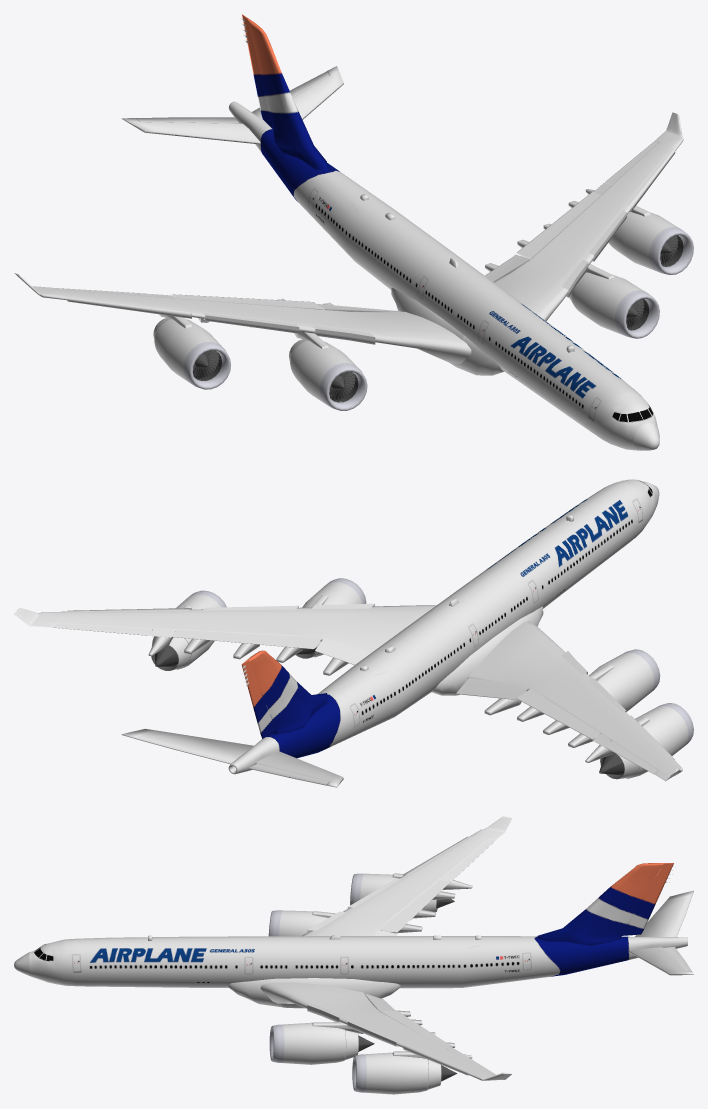
The model's file is Plane Close Wheel.fbx.
The picture shows the model from 3 angles, top to bottom: view 1: azimuth 30°, elevation 25°; view 2: azimuth 150°, elevation 25°; view 3: azimuth 270°, elevation 25°; orthographic projection. The views are drawn at different scales.
Visible parts, largest first — view 1: Plane body, thruster_1.L, thruster_2.L, thruster_1.R, thruster_2.R; view 2: Plane body, thruster_2.R, thruster_1.R, thruster_2.L, thruster_1.L; view 3: Plane body, thruster_1.L, thruster_2.L, thruster_1.R, thruster_2.R.
Boxes of the visible parts, x1,y1,x2,y2 form: Plane body: (14, 14, 683, 450); thruster_1.L: (569, 272, 659, 338); thruster_2.L: (608, 211, 693, 274); thruster_1.R: (289, 339, 367, 410); thruster_2.R: (153, 318, 230, 389); Plane body: (14, 479, 682, 787); thruster_2.R: (599, 703, 693, 779); thruster_1.R: (589, 649, 660, 711); thruster_2.L: (151, 590, 226, 670); thruster_1.L: (295, 578, 366, 658); Plane body: (14, 816, 693, 1080); thruster_1.L: (269, 1022, 374, 1064); thruster_2.L: (352, 1052, 457, 1094); thruster_1.R: (268, 910, 327, 936); thruster_2.R: (350, 873, 454, 911).
Size of the model in its own units: 5182 by 1357 by 5795.
1 material, 1 textured.
